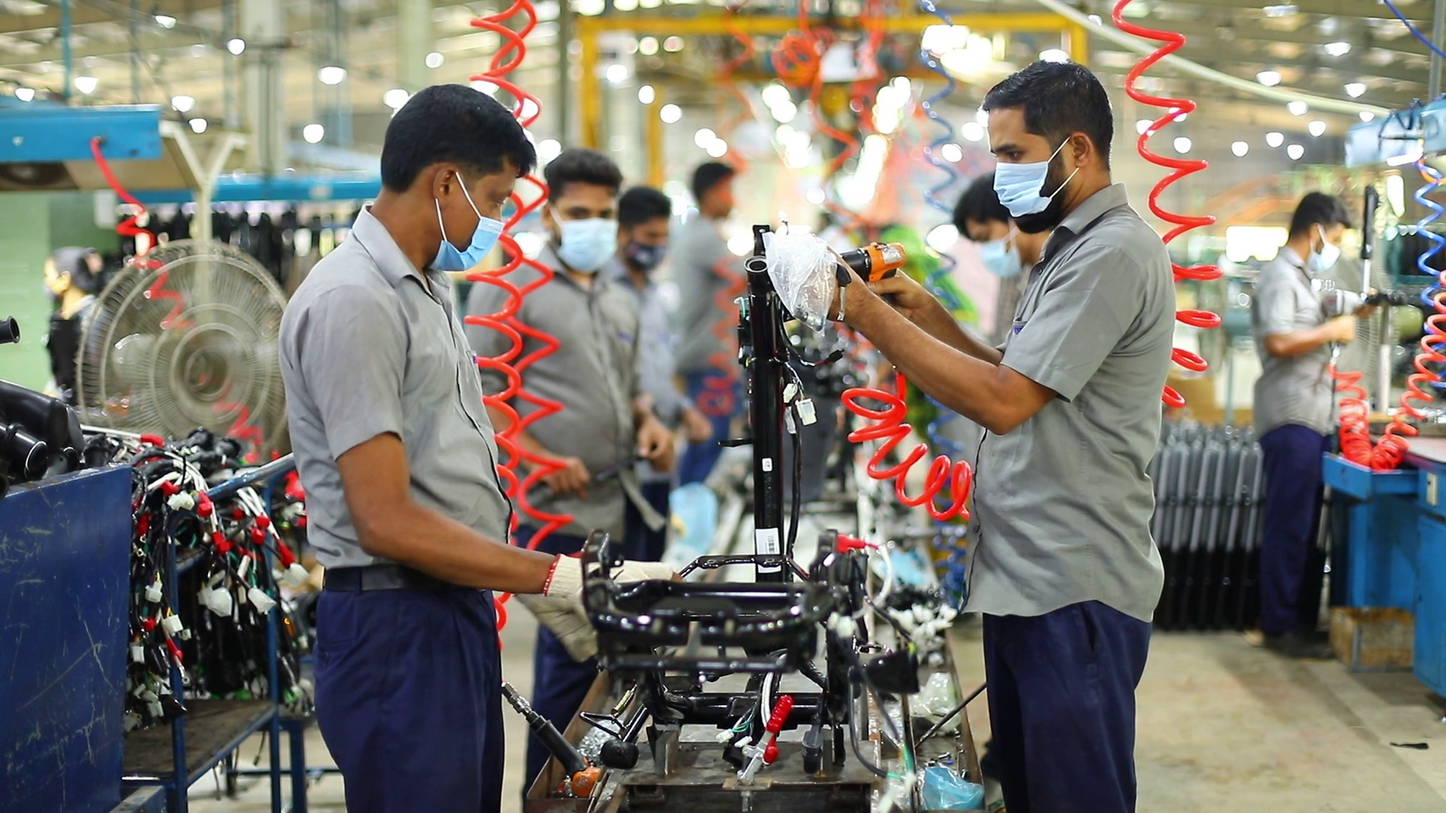mask: (434, 212, 507, 273), (992, 160, 1054, 217), (558, 215, 618, 270), (973, 233, 1024, 278), (1308, 239, 1341, 274), (626, 245, 665, 272)
person: (764, 57, 1177, 812), (277, 82, 677, 813), (465, 147, 674, 795), (1252, 190, 1379, 657), (602, 184, 714, 562), (661, 160, 755, 487), (949, 170, 1033, 351), (41, 246, 124, 406)
